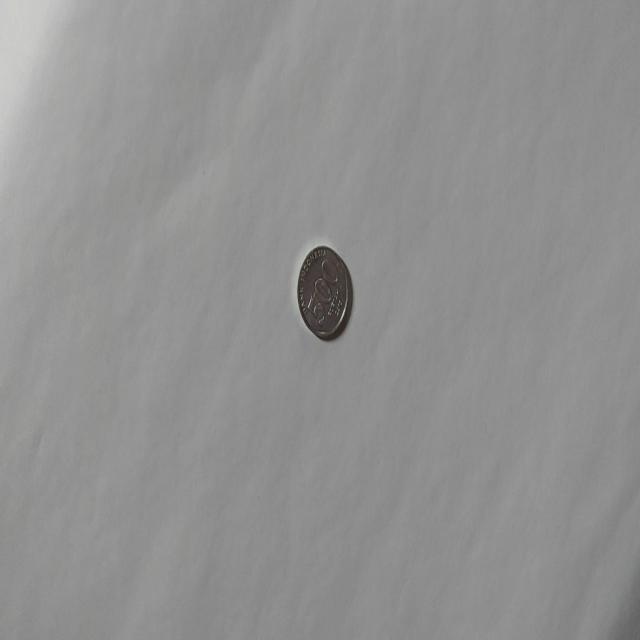lima ratus rupiah: (296, 244, 350, 340)
